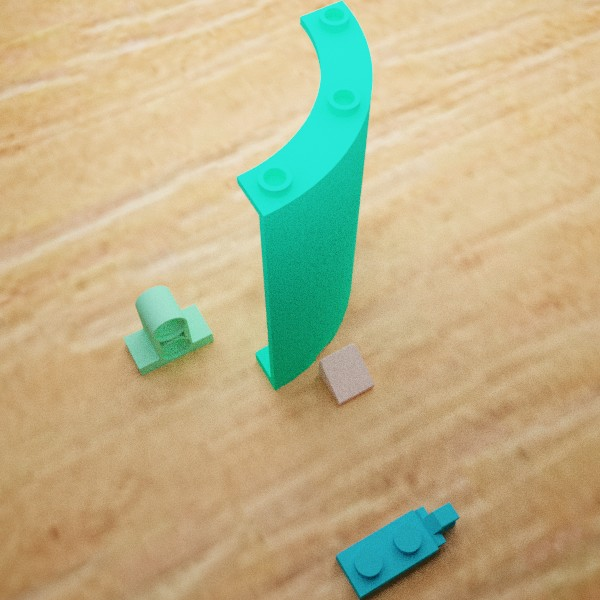lego: (236, 0, 373, 391), (335, 502, 459, 600), (123, 285, 213, 376), (318, 343, 374, 405)
